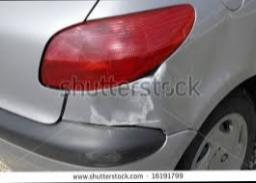Fender: (66, 59, 198, 132)
